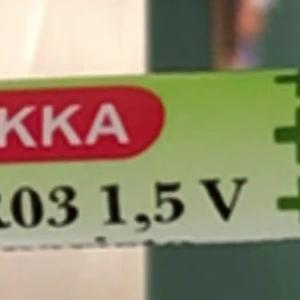1,5V: (86, 168, 253, 254)
